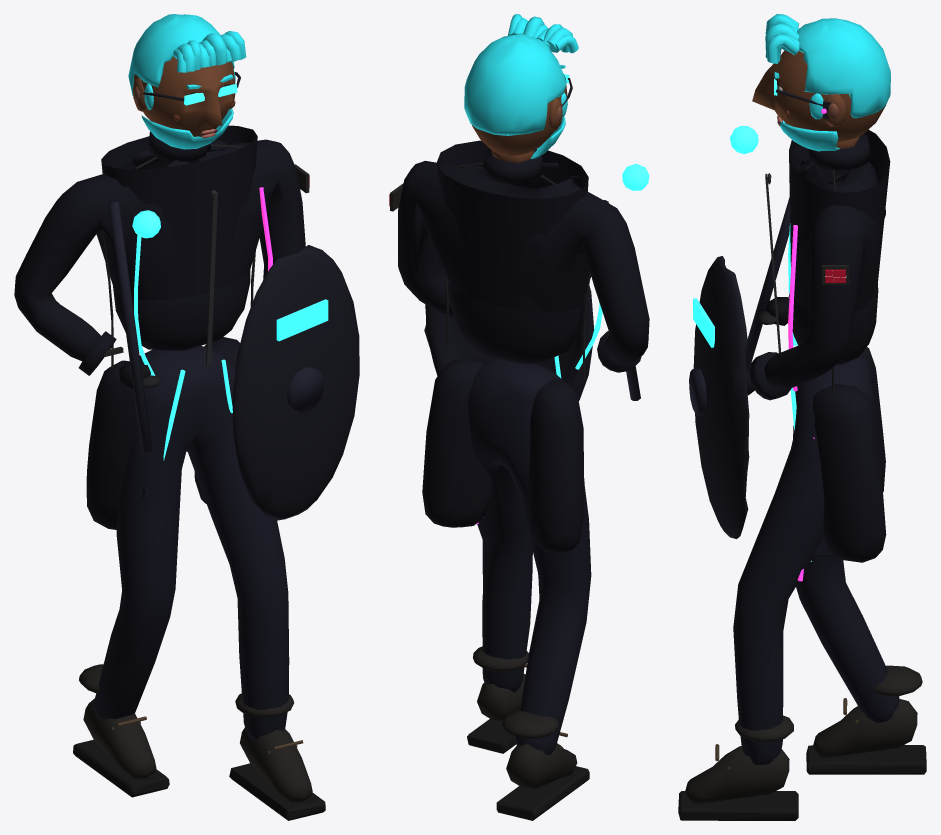
Rendered from enhed_neon.glb.
3 renders of one model, left to right at view 1: azimuth 30°, elevation 25°; view 2: azimuth 150°, elevation 25°; view 3: azimuth 270°, elevation 25°, orthographic. The views are drawn at different scales.
Parts seen in each view (by area): view 1: krop_net; view 2: krop_net; view 3: krop_net.
Part boxes in pixels (x1,y1,x2,y2): krop_net: (14, 14, 359, 820); krop_net: (388, 14, 649, 820); krop_net: (678, 14, 926, 820).
Bounding box in the file's own units: 0.9058 × 2.3 × 0.6741.
